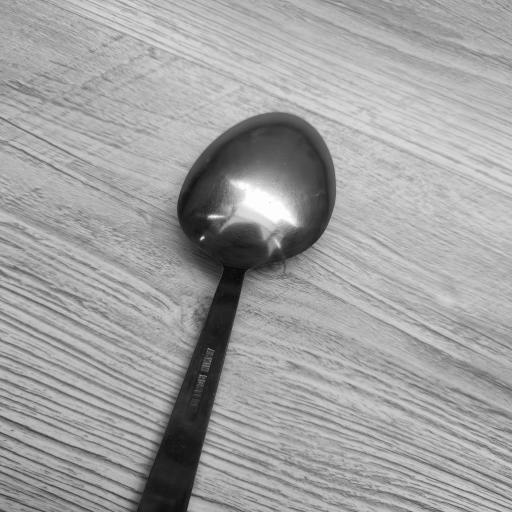spoon: (110, 105, 339, 512)
